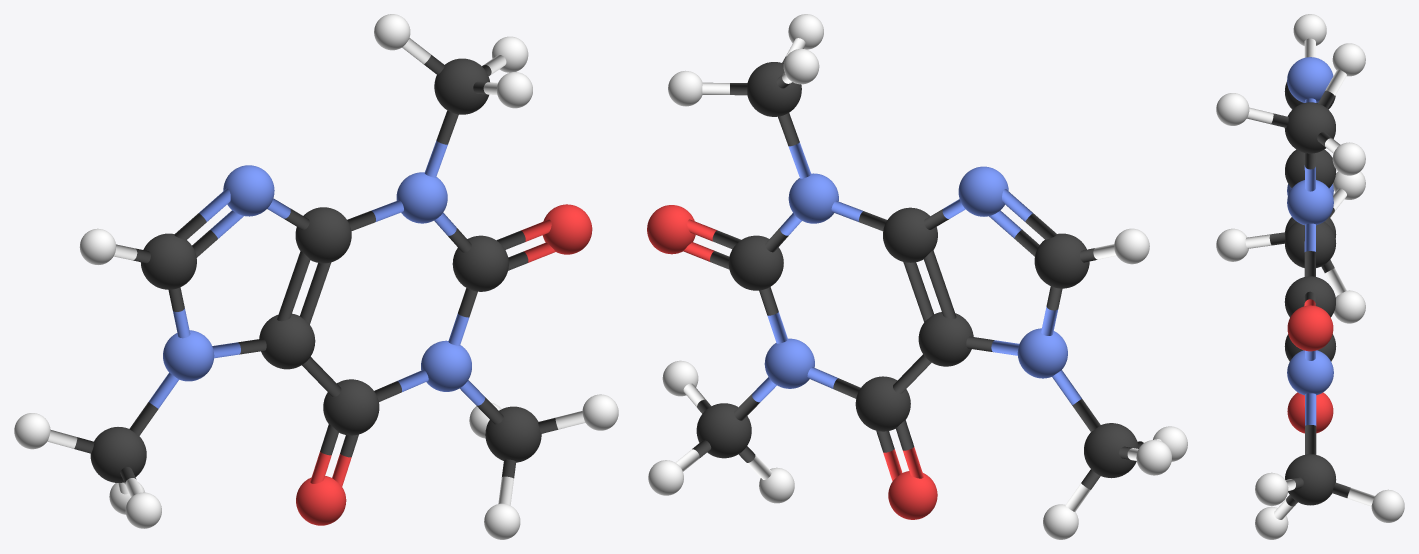
File: asset.gltf
3 views of the same model, side by side, from view 1: azimuth 30°, elevation 25°; view 2: azimuth 150°, elevation 25°; view 3: azimuth 270°, elevation 25° (orthographic). The views are drawn at different scales.
Parts seen in each view (by area): view 1: 02f-Cafeina; view 2: 02f-Cafeina; view 3: 02f-Cafeina.
Boxes of the visible parts, left/top/right/bottom form: 02f-Cafeina: left=14, top=14, right=618, bottom=539; 02f-Cafeina: left=647, top=14, right=1187, bottom=539; 02f-Cafeina: left=1216, top=14, right=1404, bottom=539.
Bounding box in the file's own units: 7.77 × 6.77 × 2.5.
